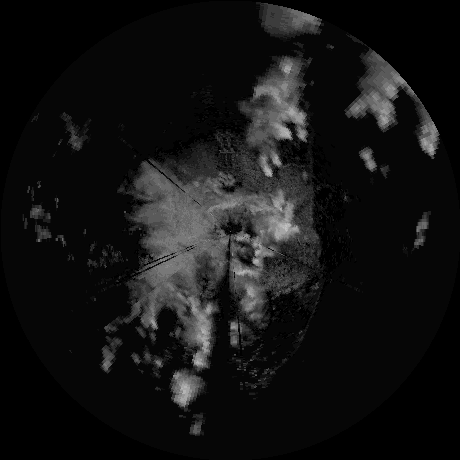frontgust: (262, 268, 322, 379)
